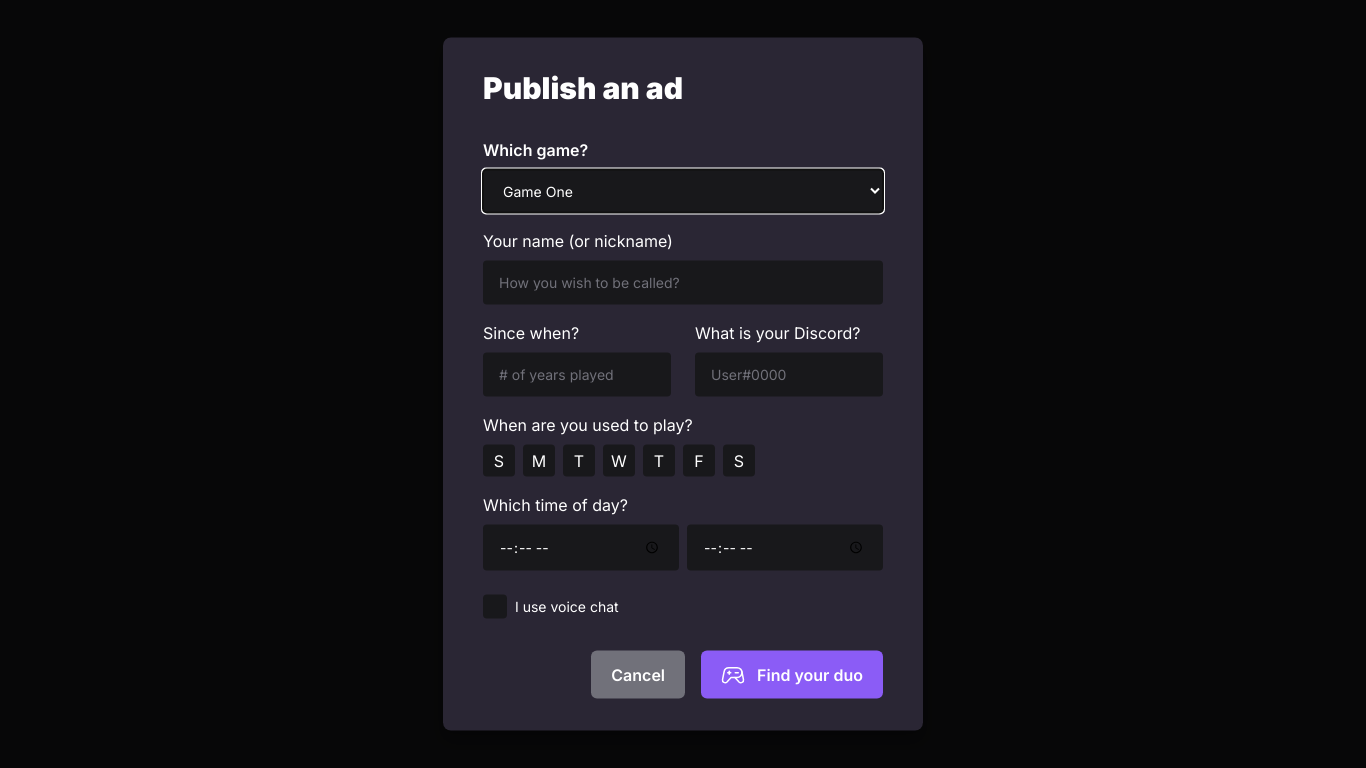
CreateAdModal › joins several field issues
Earlier steps of the test are not shown.
Type "  Player One  " into the field labelled "Your name (or nickname)" at [683, 282], box [483,260,883,304]
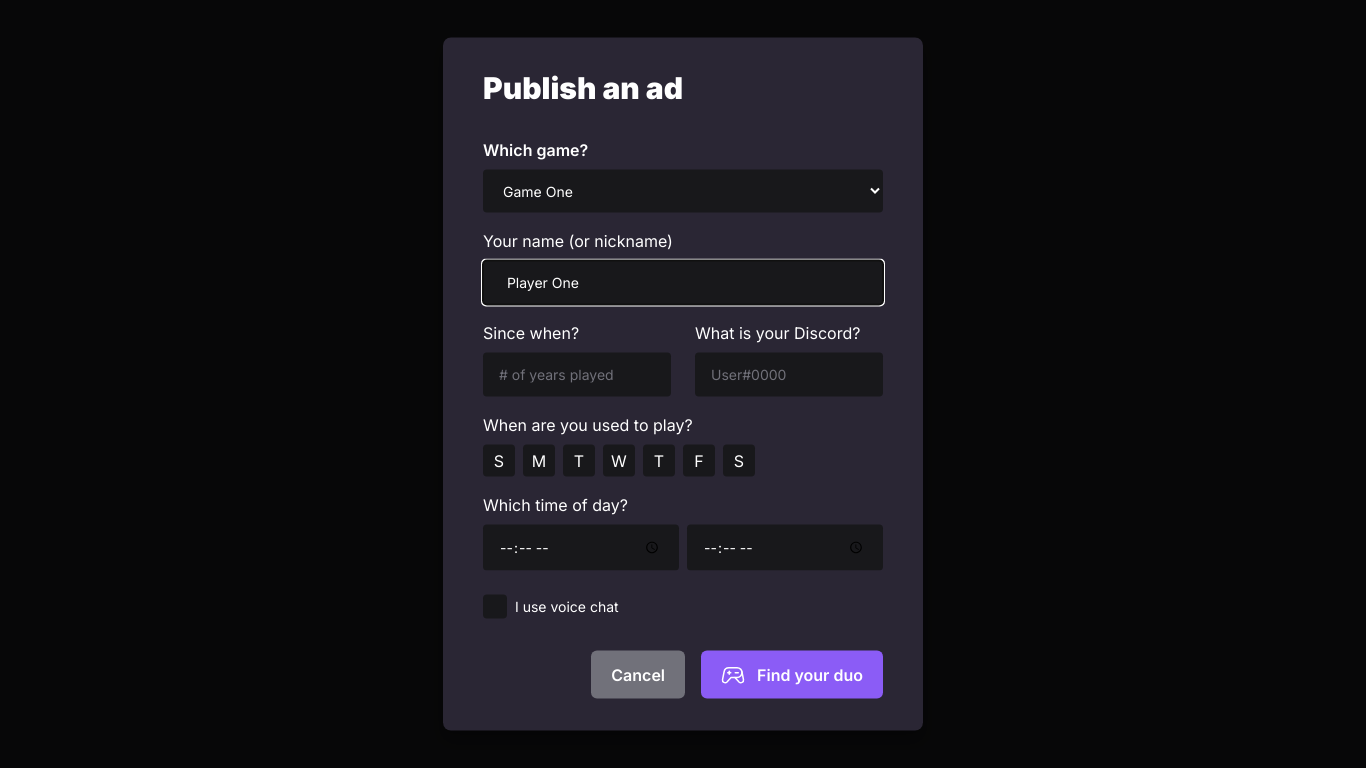
Type "3" into the number field labelled "Since when?" at [577, 374], box [483,352,671,396]
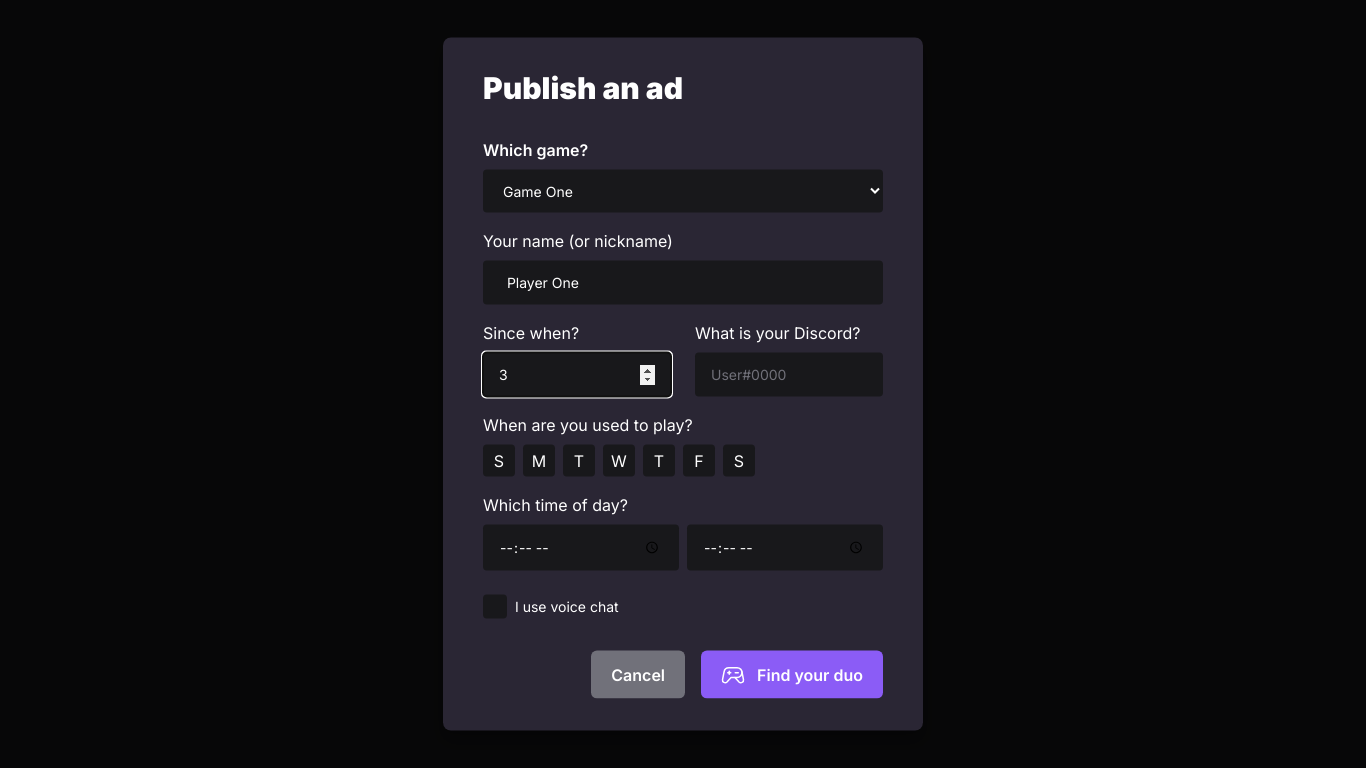
Type "player#1234" into the field labelled "What is your Discord?" at [789, 374], box [695,352,883,396]
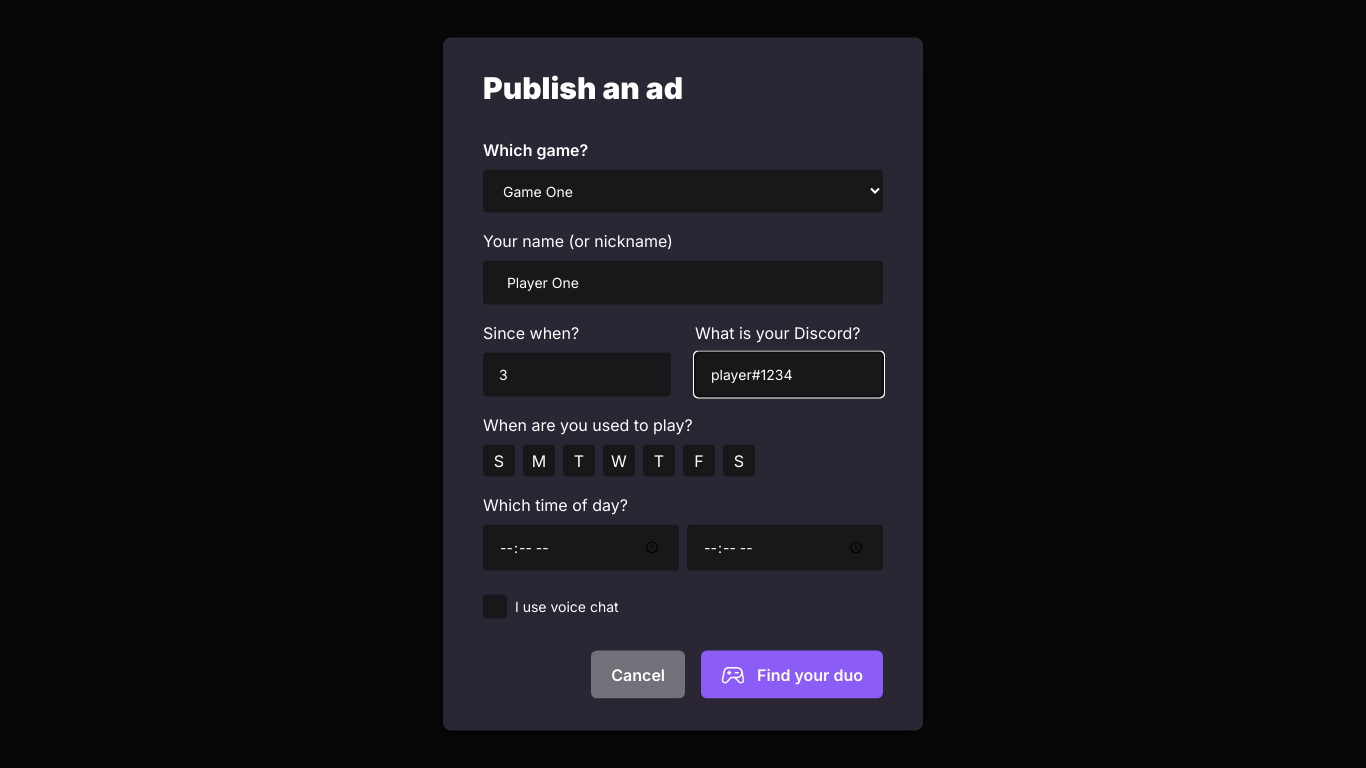
Click the button titled "Monday" at [539, 460], box [523,444,555,476]
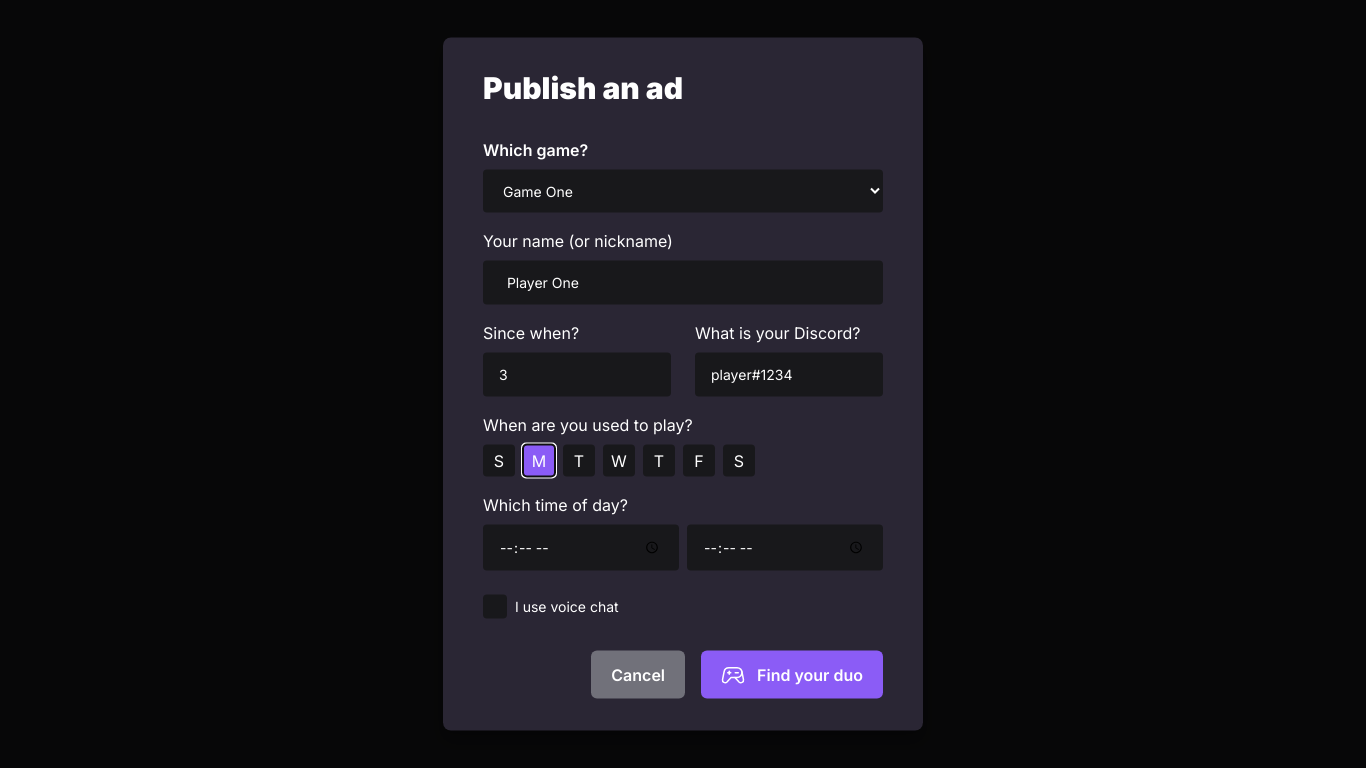
Click the button titled "Friday" at [699, 460], box [683,444,715,476]
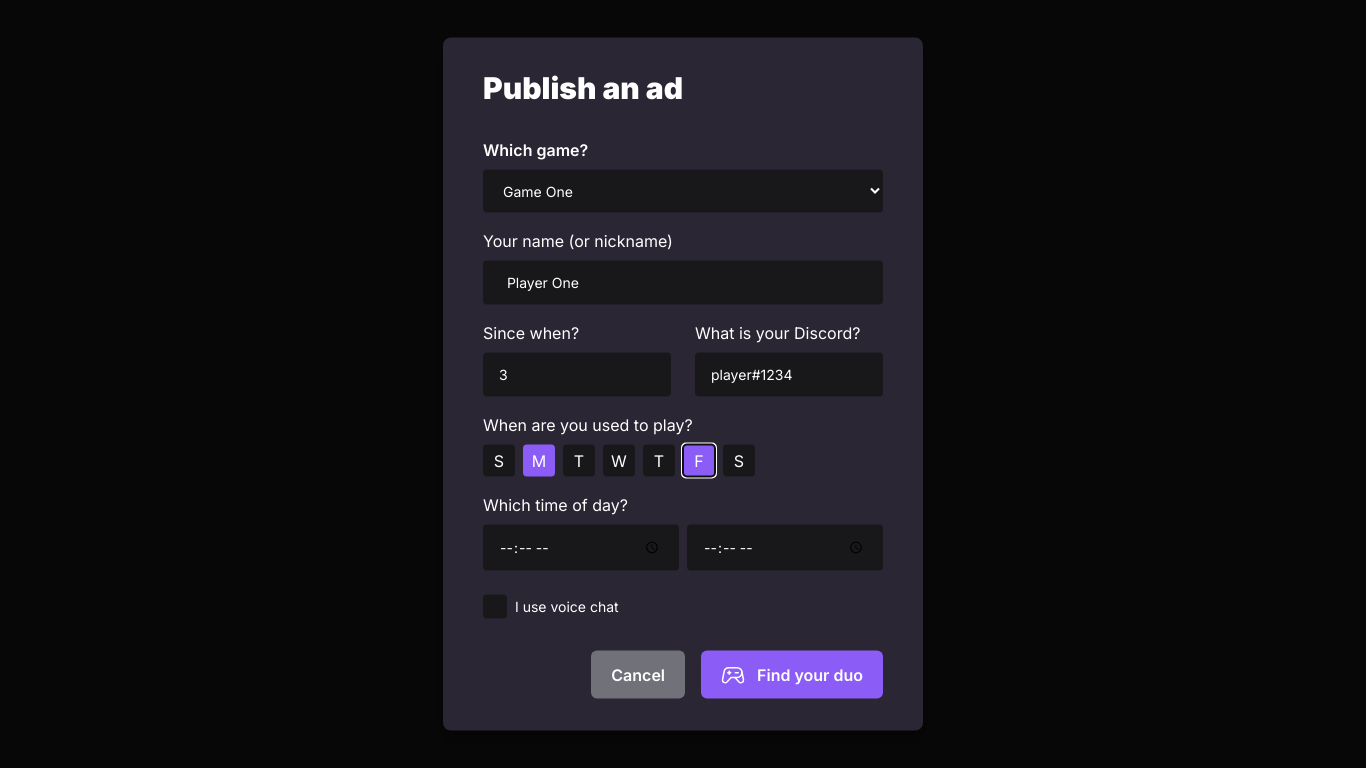
Type "18:00" into the time field named "From" at [581, 548], box [483,524,679,570]
Type "22:30" into the time field labelled "To" at [785, 548], box [687,524,883,570]
Click the button "Find your duo" at [792, 674], box [701,650,883,698]
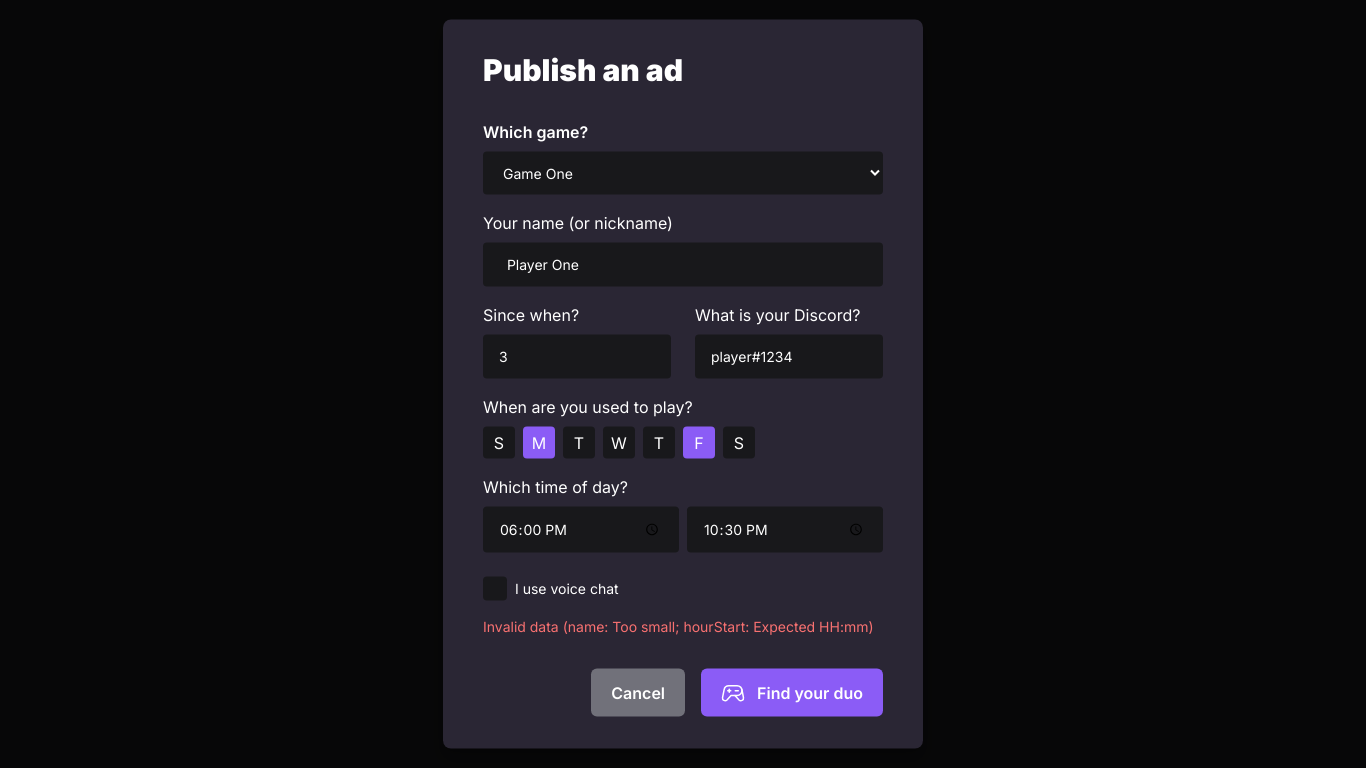
expect the message reads "Invalid data (name: Too small; hourStart: Expected HH:mm)": met, box [483,618,874,634]
